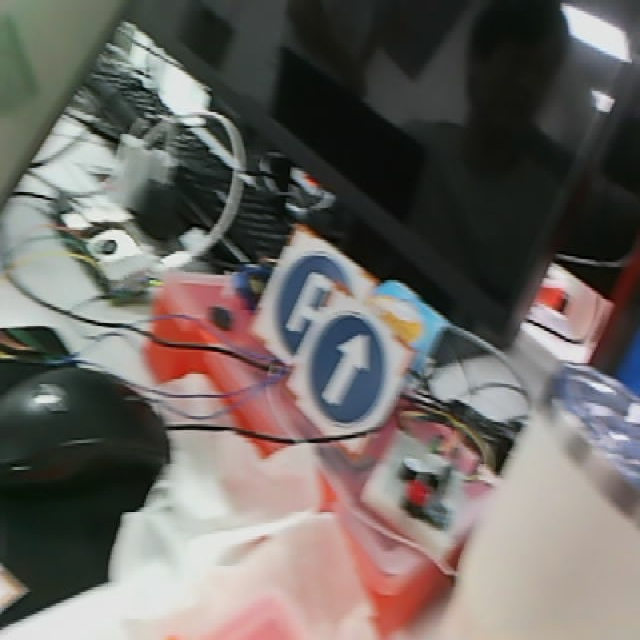parking: (247, 226, 374, 373)
straight: (287, 288, 413, 458)
